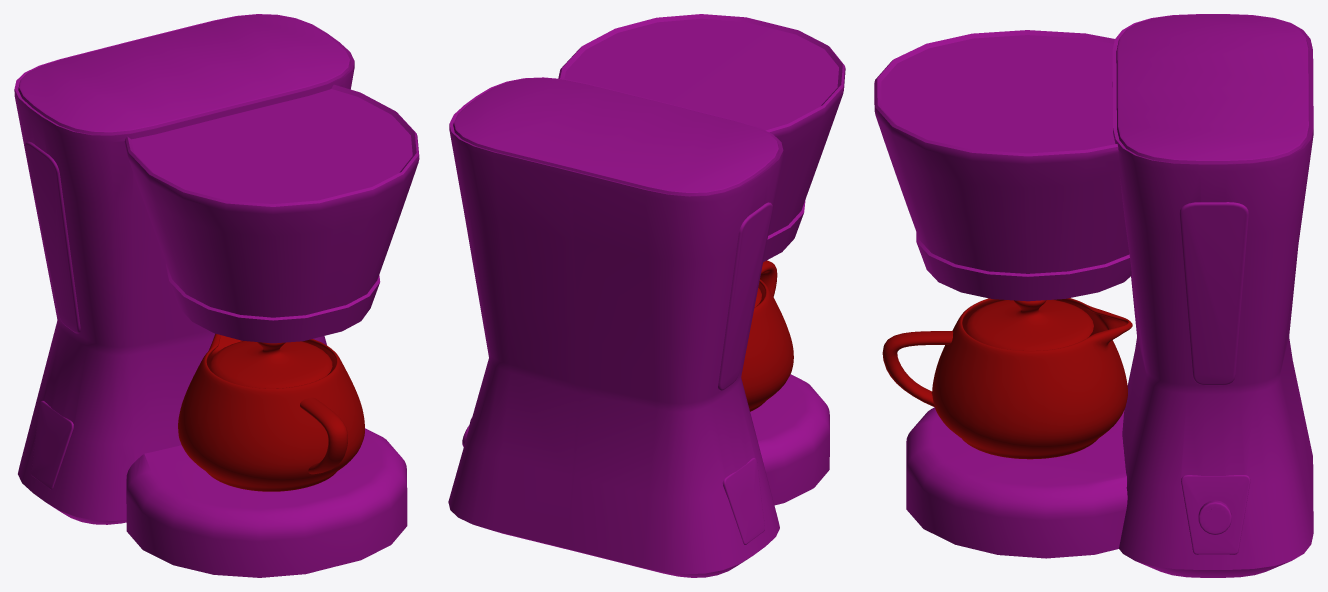
File: N_CoffeMachine.fbx
3 renders of one model, left to right at view 1: azimuth 30°, elevation 25°; view 2: azimuth 150°, elevation 25°; view 3: azimuth 270°, elevation 25°, orthographic. The views are drawn at different scales.
Parts seen in each view (by area): view 1: Box002; view 2: Box002; view 3: Box002.
Boxes of the visible parts, box(x1,y1,x2,y2) form: Box002: box(14, 14, 419, 577); Box002: box(448, 14, 845, 577); Box002: box(874, 14, 1313, 577).
Size of the model in its own units: 30.84 by 39.82 by 37.25.
